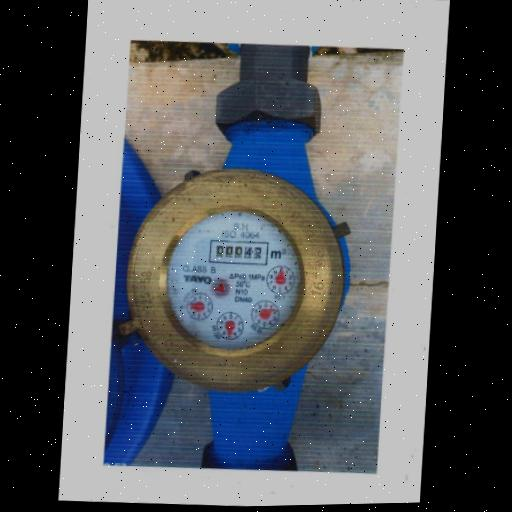0: (216, 245, 225, 257), (235, 246, 244, 258), (225, 246, 234, 257)
4: (244, 247, 252, 259)
5: (254, 247, 263, 259)
border_water_meter_number: (208, 239, 268, 267)
